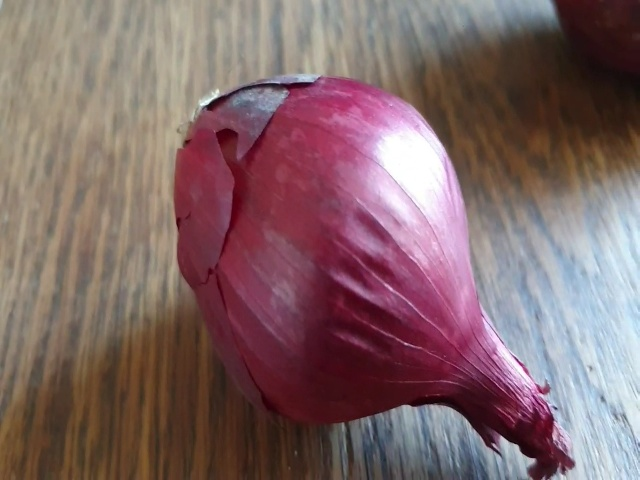red_onion: (169, 64, 578, 479)
